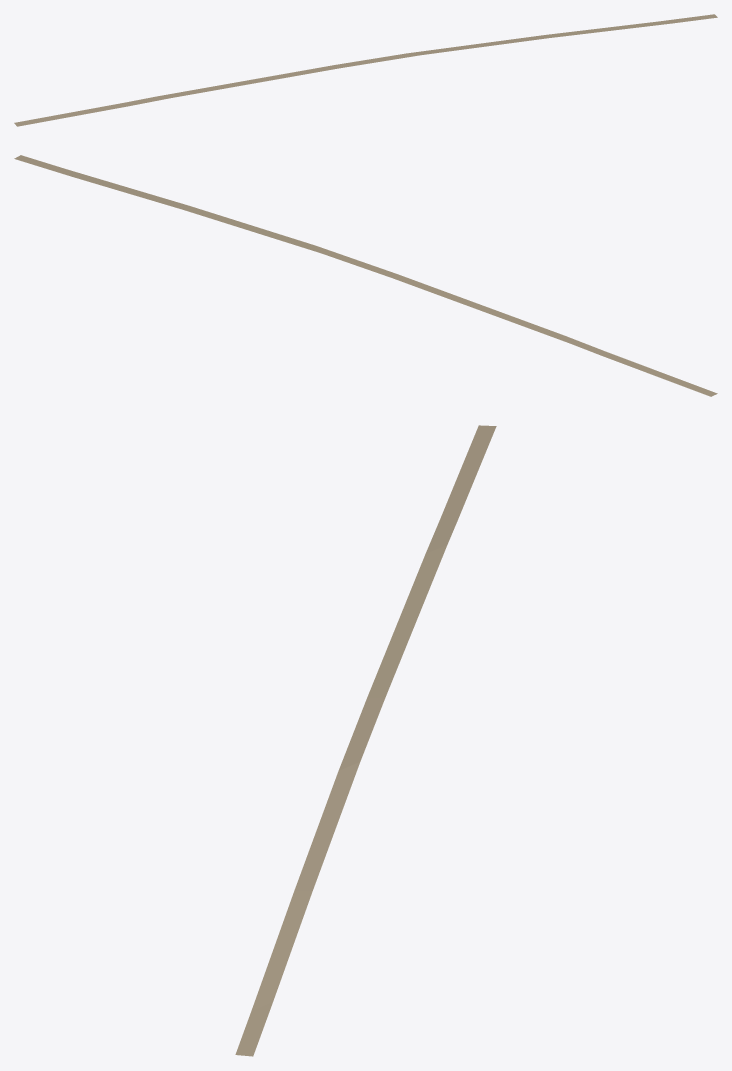
File: farm_30_32_track.glb
3 renders of one model, top to bottom at view 1: azimuth 30°, elevation 25°; view 2: azimuth 150°, elevation 25°; view 3: azimuth 270°, elevation 25°, orthographic. The views are drawn at different scales.
Parts seen in each view (by area): view 1: geometry_0; view 2: geometry_0; view 3: geometry_0.
Boxes of the visible parts, box(x1,y1,x2,y2) form: geometry_0: box(14, 14, 717, 126); geometry_0: box(14, 155, 717, 396); geometry_0: box(235, 425, 496, 1056).
Bounding box in the file's own units: 268 × 3.95 × 47.32.
